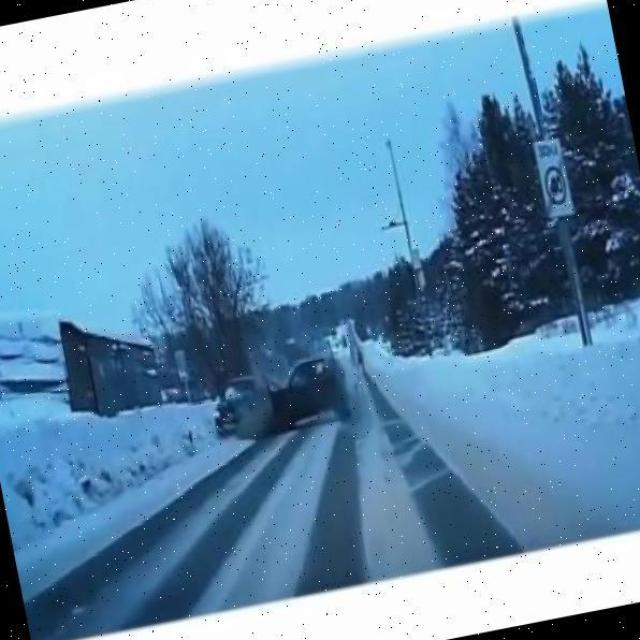accident: (203, 315, 367, 453)
